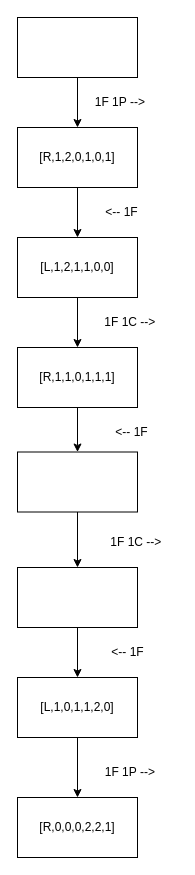
Some shapes in this 195 by 875 pixel diagram are drawn without their labels. The centre of each missing label's shape, as x and y in pixels:
[L,1,1,1,1,1,0]: [77,481]
[L,2,2,1,0,0,0]: [77,47]
[R,1,0,0,1,2,1]: [77,597]
